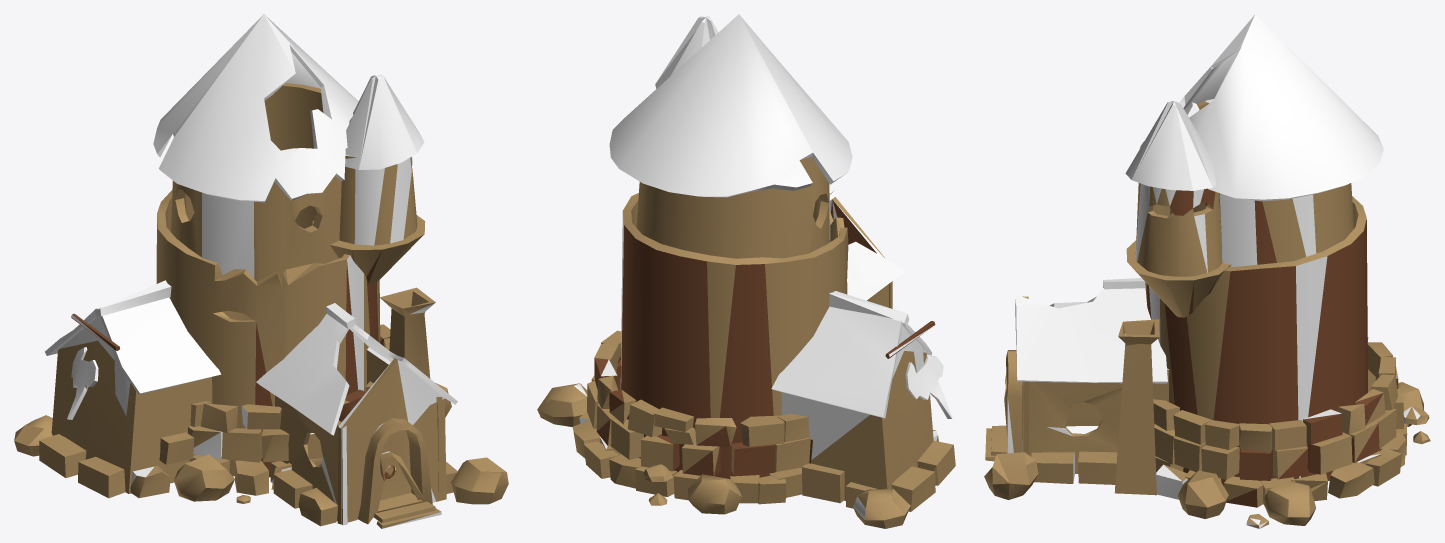
File: castle_d2.glb
3 renders of one model, left to right at view 1: azimuth 30°, elevation 25°; view 2: azimuth 150°, elevation 25°; view 3: azimuth 270°, elevation 25°, orthographic. The views are drawn at different scales.
Parts seen in each view (by area): view 1: castle; view 2: castle; view 3: castle.
Boxes of the visible parts, bbox=[...] form: castle: bbox=[14, 14, 508, 528]; castle: bbox=[537, 14, 955, 528]; castle: bbox=[984, 14, 1430, 528].
Size of the model in its own units: 2.9 by 3.03 by 2.87.
